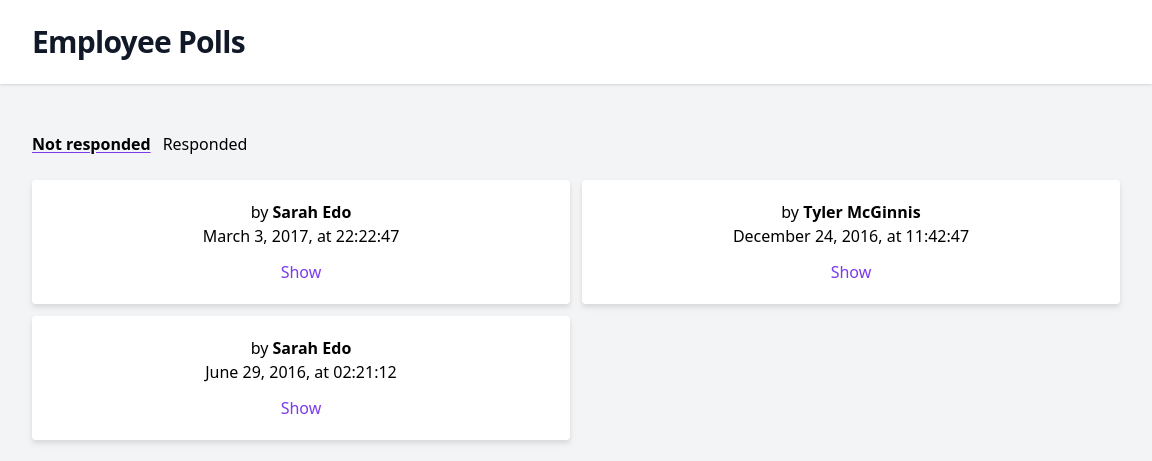
Scenario: renders and behaves correctly
Expected: the heading "Employee Polls" is shown, left=32, top=21, right=245, bottom=62
Expected: the number of elements with test id "poll-card" is 3, left=32, top=180, right=570, bottom=304; left=582, top=180, right=1120, bottom=304; left=32, top=316, right=570, bottom=440
Click the text "Responded". click: click(205, 144)
box: left=163, top=132, right=247, bottom=156
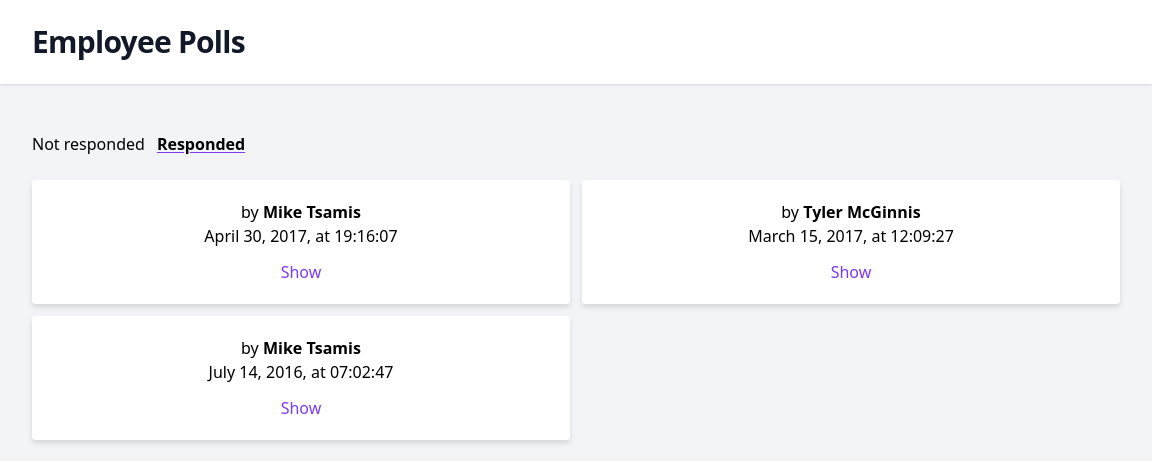
Expected: the number of elements with test id "poll-card" is 3, left=32, top=180, right=570, bottom=304; left=582, top=180, right=1120, bottom=304; left=32, top=316, right=570, bottom=440
Now the 1st text "Mike Tsamis" is shown, box left=263, top=201, right=361, bottom=223
Now the 2nd text "Mike Tsamis" is shown, box left=263, top=337, right=361, bottom=359
